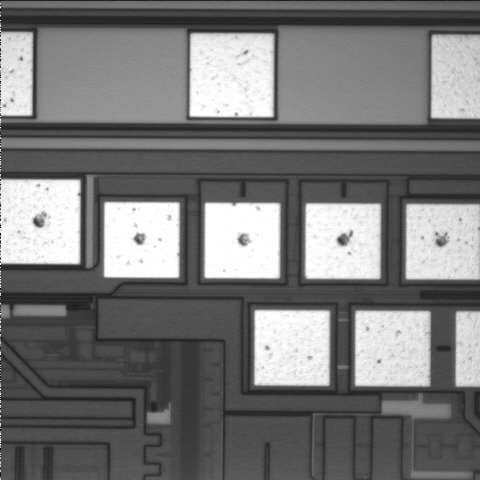pad: (190, 33, 274, 117), (104, 202, 180, 278), (204, 203, 280, 279), (305, 203, 381, 279), (254, 310, 330, 386), (355, 311, 430, 386)
